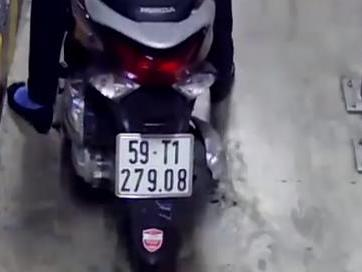num_plate: (114, 133, 192, 197)
